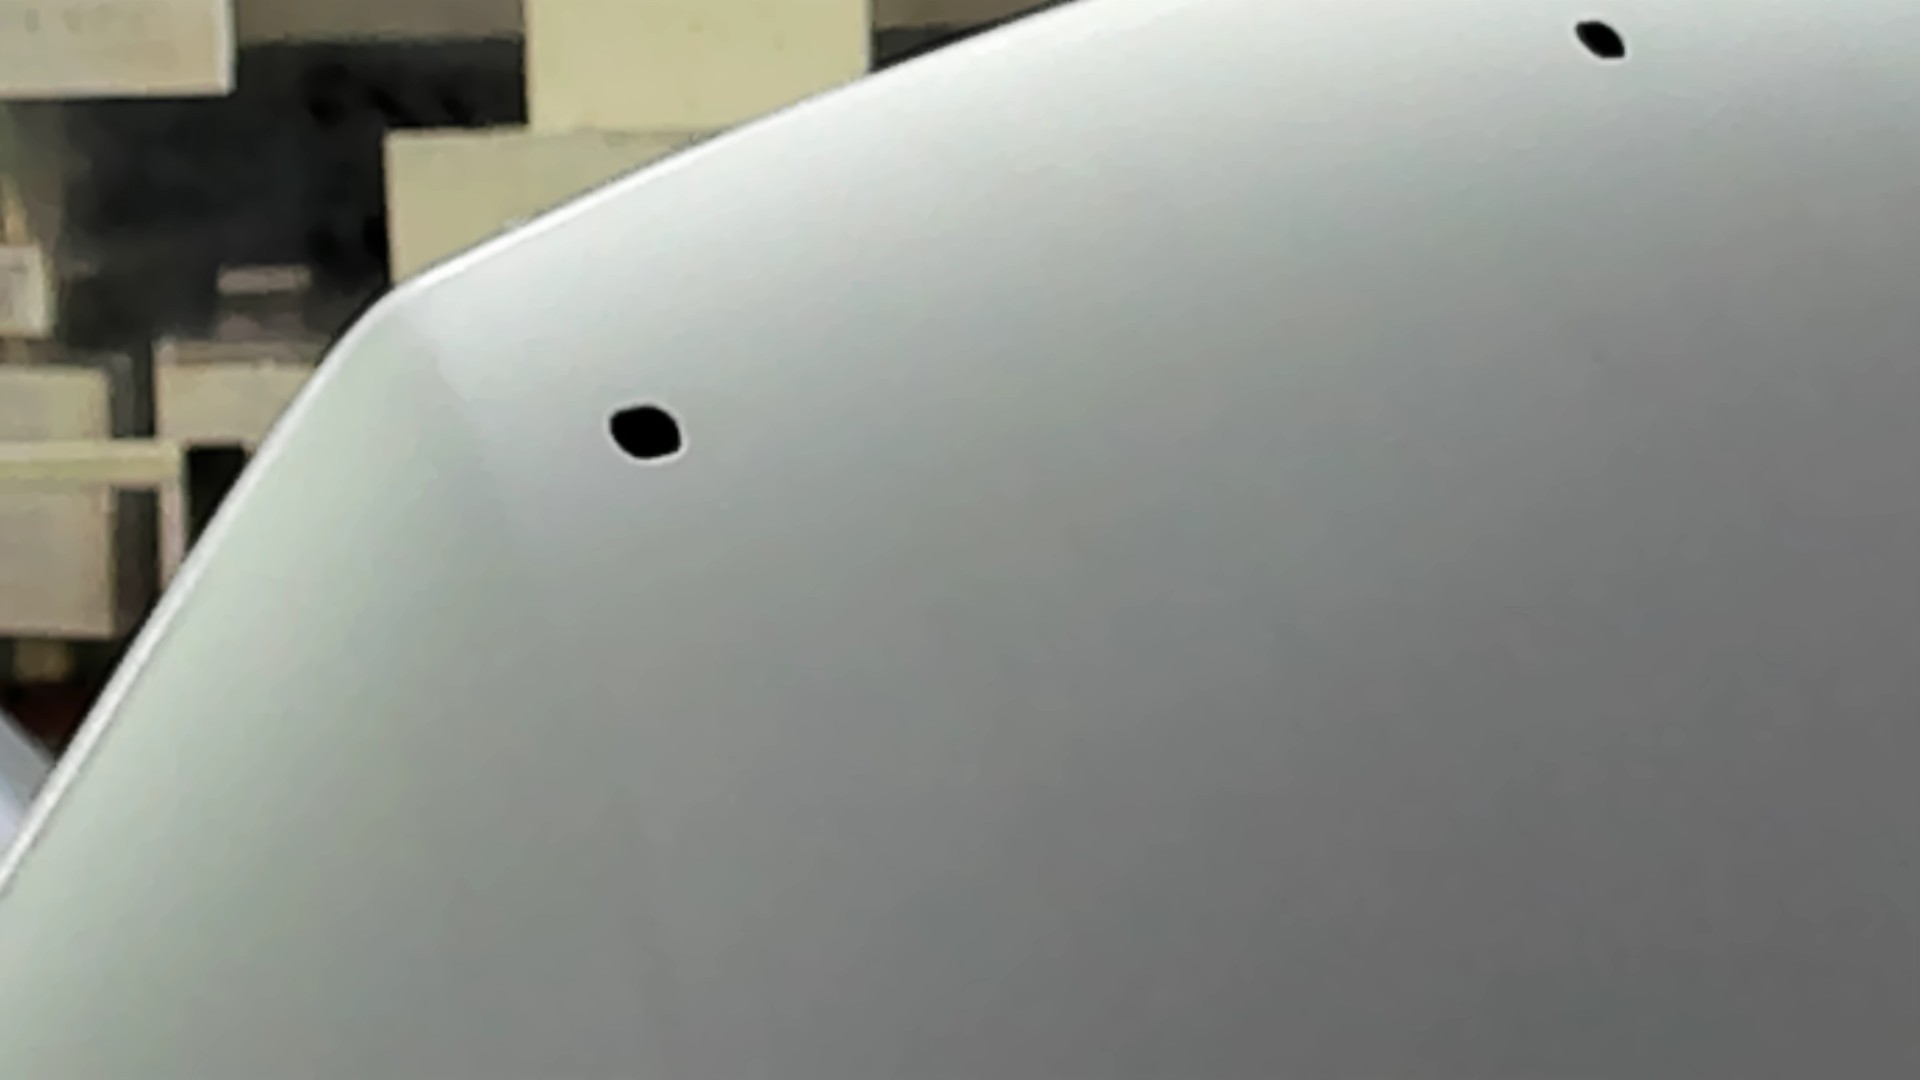amorfo: (607, 401, 690, 465), (1571, 17, 1629, 63)
